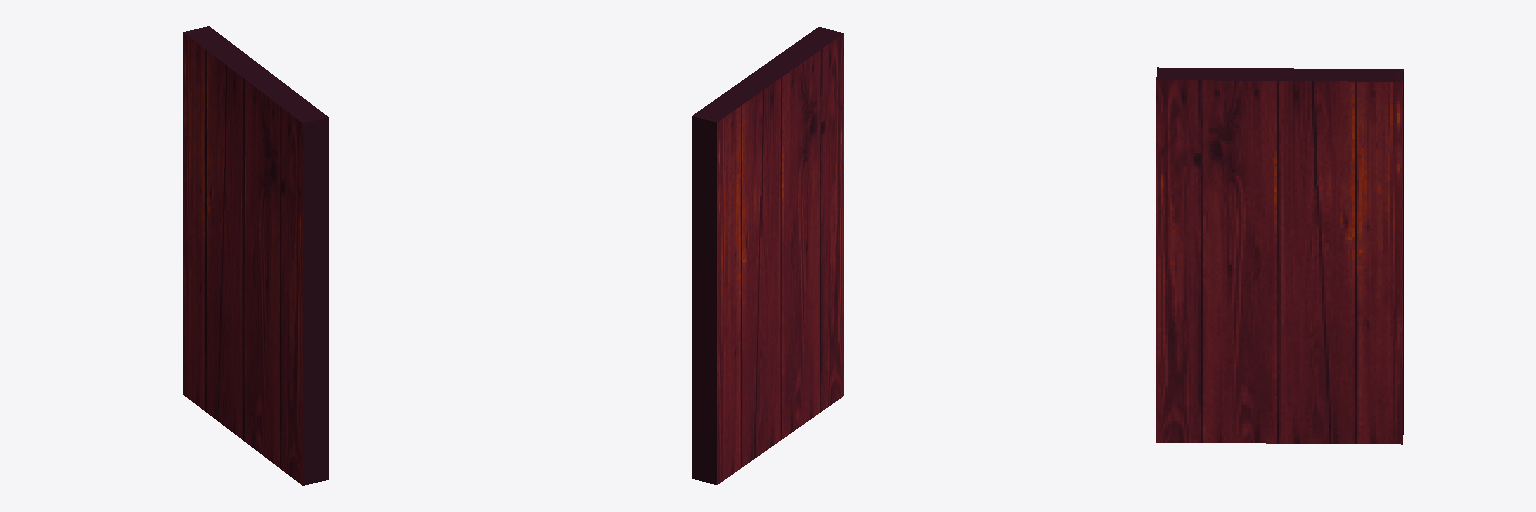
3 renders of one model, left to right at view 1: azimuth 30°, elevation 25°; view 2: azimuth 150°, elevation 25°; view 3: azimuth 270°, elevation 25°, orthographic.
Parts seen in each view (by area): view 1: Cube.038; view 2: Cube.038; view 3: Cube.038.
Part boxes in pixels (bbox=[...]): Cube.038: bbox=[183, 26, 328, 485]; Cube.038: bbox=[692, 27, 843, 484]; Cube.038: bbox=[1156, 67, 1403, 444].
Size of the model in its own units: 0.4087 by 4.79 by 2.96.
Materials: 1 (1 with a texture image).